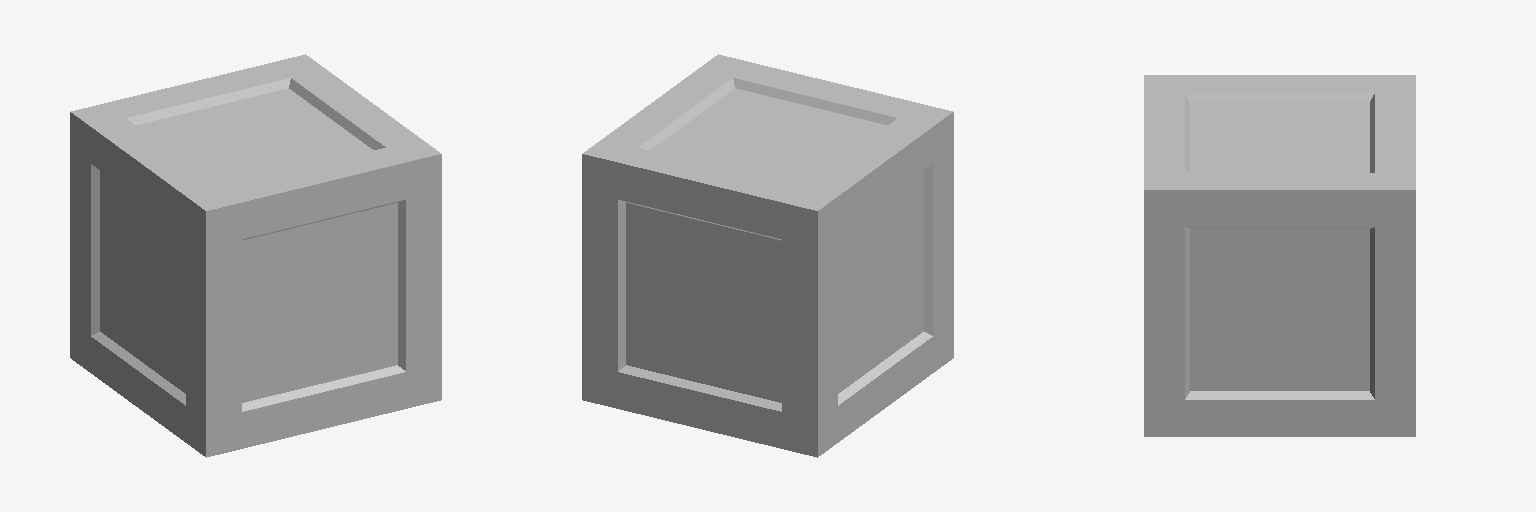
The model's file is Caja2.obj.
3 views of the same model, side by side, from view 1: azimuth 30°, elevation 25°; view 2: azimuth 150°, elevation 25°; view 3: azimuth 270°, elevation 25° (orthographic).
Parts seen in each view (by area): view 1: Cubo.001; view 2: Cubo.001; view 3: Cubo.001.
Part boxes in pixels (bbox=[...]): Cubo.001: bbox=[70, 54, 441, 457]; Cubo.001: bbox=[582, 54, 953, 457]; Cubo.001: bbox=[1144, 75, 1415, 436].
Size of the model in its own units: 0.72 by 0.72 by 0.72.